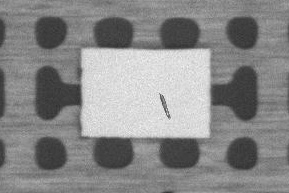DIE_INK: (235, 61, 258, 81)
